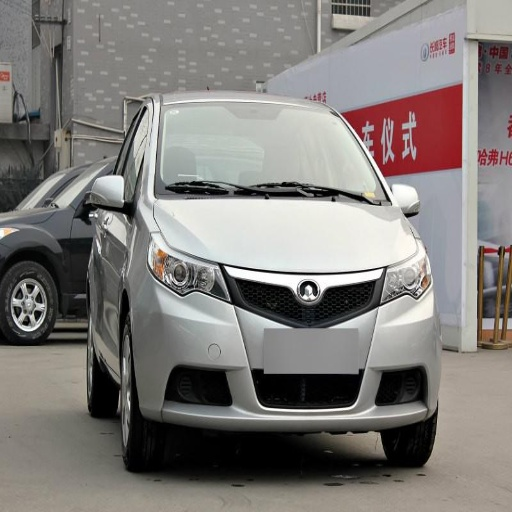front_bumper: (131, 263, 438, 432)
front_glass: (153, 103, 389, 204)
front_left_light: (381, 250, 432, 303)
front_right_door: (101, 117, 149, 272)
front_right_light: (148, 237, 230, 302)
hood: (155, 202, 417, 271)
